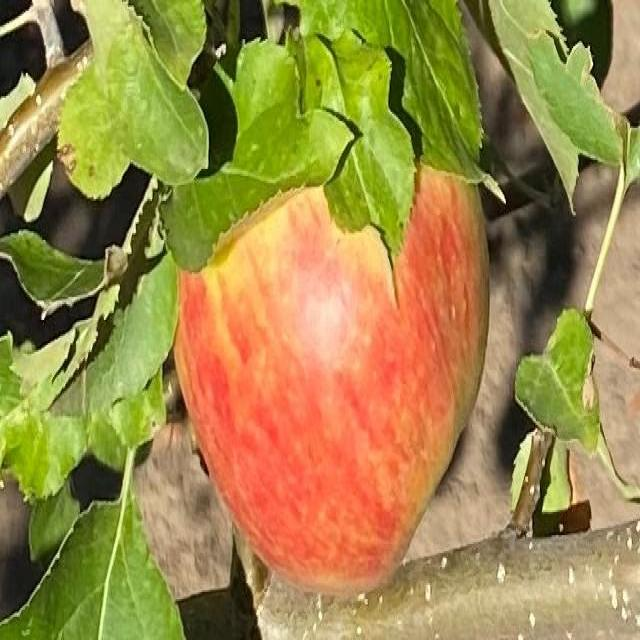Rotten Apple: (175, 169, 490, 587)
